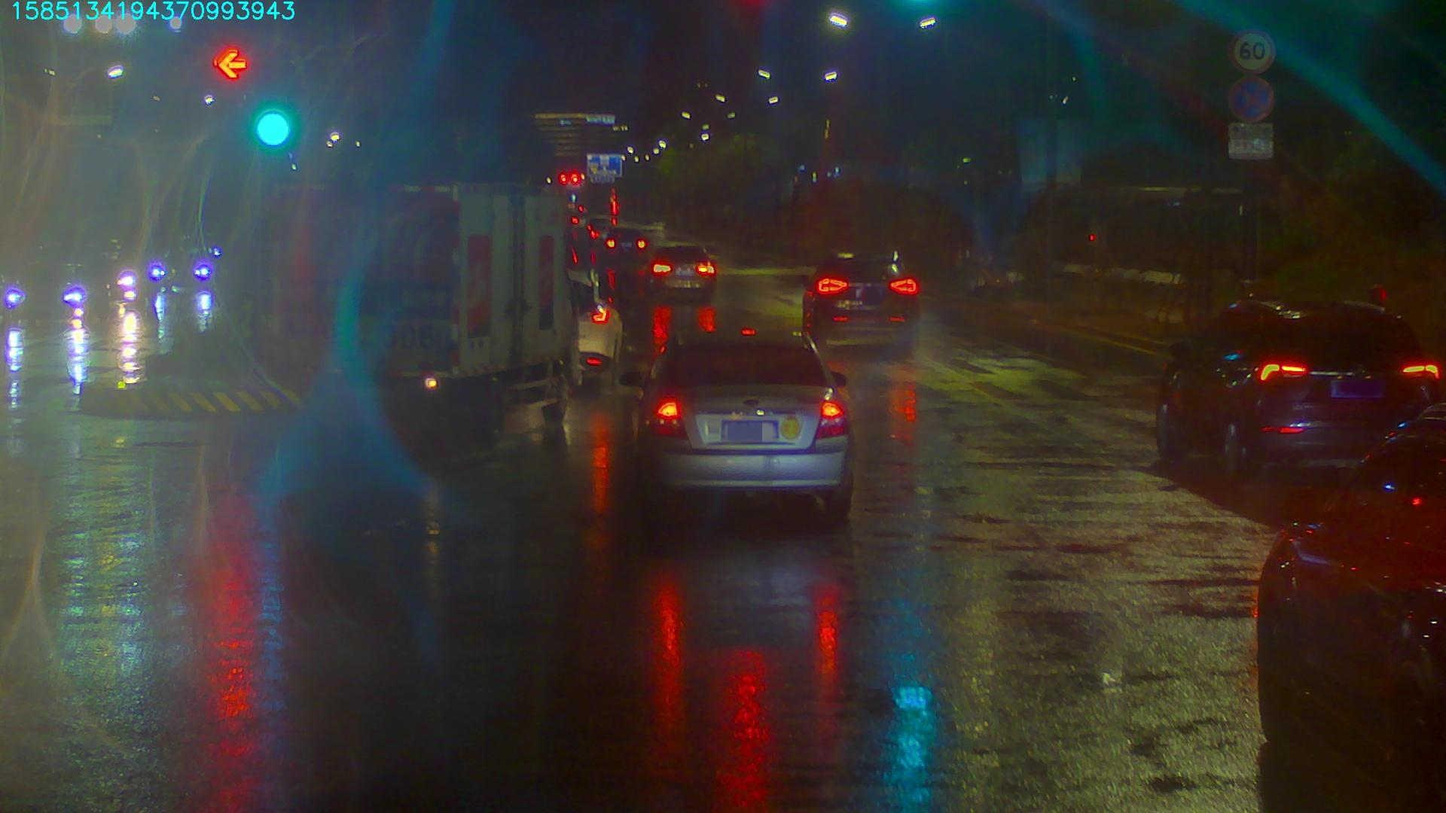green: (253, 104, 291, 146)
red: (215, 44, 246, 89)
